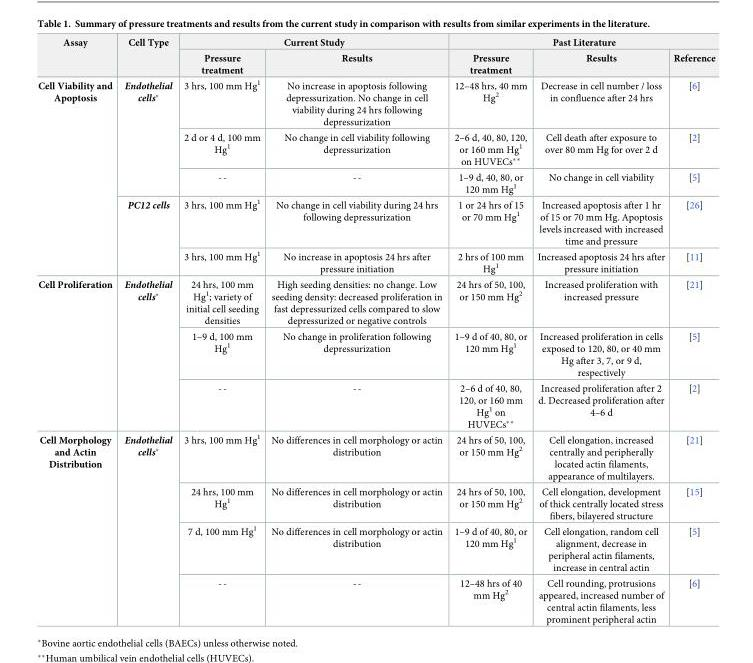table: (37, 37, 714, 624)
table column: (265, 37, 447, 624), (531, 37, 668, 624), (177, 37, 265, 624), (447, 37, 531, 624), (37, 37, 117, 624), (117, 37, 177, 624), (668, 37, 714, 624)
table column header: (37, 37, 714, 76)
table row: (37, 76, 714, 129), (37, 275, 714, 328), (37, 522, 714, 575), (37, 328, 714, 380), (37, 431, 714, 483), (37, 196, 714, 247), (37, 380, 714, 431), (37, 575, 714, 624), (37, 129, 714, 169), (37, 483, 714, 522), (37, 247, 714, 275), (37, 169, 714, 196), (37, 50, 714, 76), (37, 37, 714, 50)
table spanning cell: (37, 76, 117, 275), (37, 431, 117, 624), (37, 275, 117, 431), (117, 431, 177, 624), (117, 275, 177, 431), (117, 76, 177, 196), (117, 196, 177, 275), (177, 37, 447, 50), (447, 37, 714, 50), (37, 37, 117, 76), (117, 37, 177, 76)
